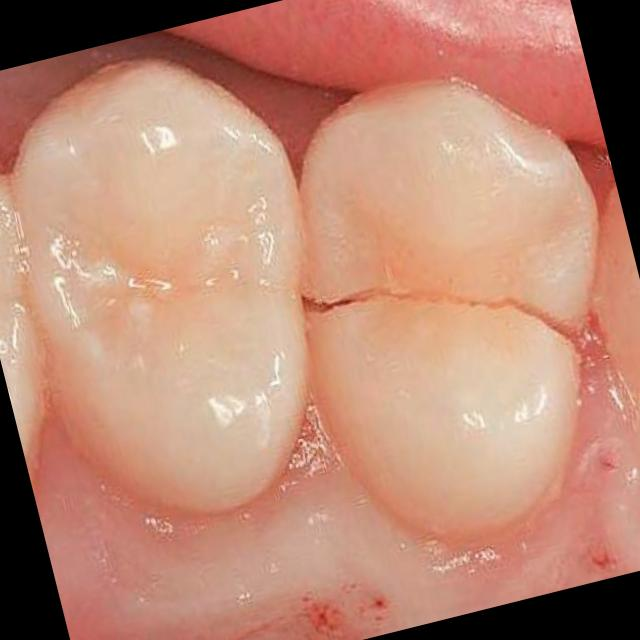Caries: (322, 299, 352, 311)
Crack: (303, 289, 584, 403)
Tooth: (299, 78, 601, 540), (11, 54, 311, 511)
